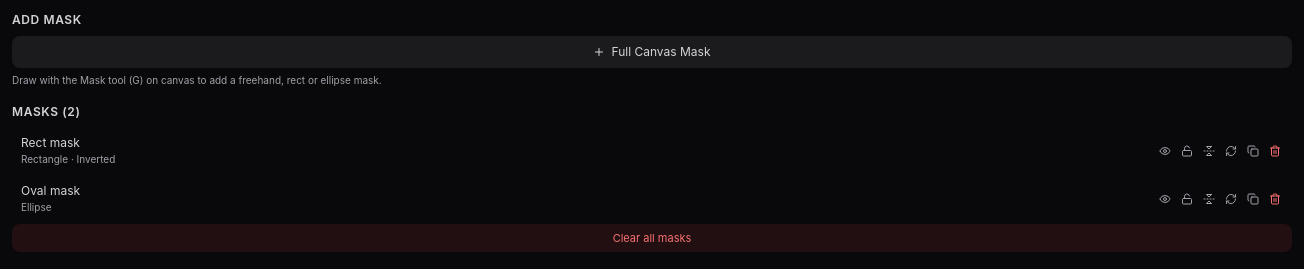
Test case: MasksPanel › lists every mask additively with per-mask Delete/Reverse/Duplicate
The width and height of the screenshot is (1304, 269).
Check: the text "Rect mask" is shown, box [21, 135, 80, 150]
Check: the text "Oval mask" is shown, box [21, 183, 80, 198]
Click the button titled "Delete" in the row of "Oval mask" at x=1275, y=199, box [1267, 191, 1283, 207]
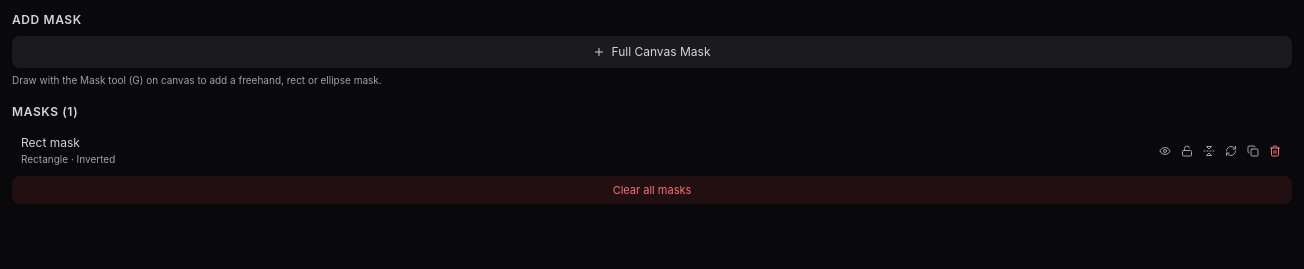
Click the button titled "Switch to reveal" at x=1209, y=151, box [1201, 143, 1217, 159]
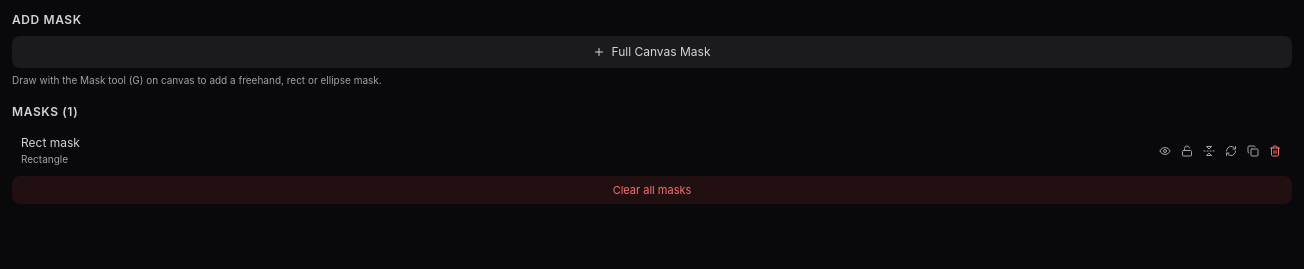
Click the button titled "Duplicate" at x=1253, y=151, box [1245, 143, 1261, 159]
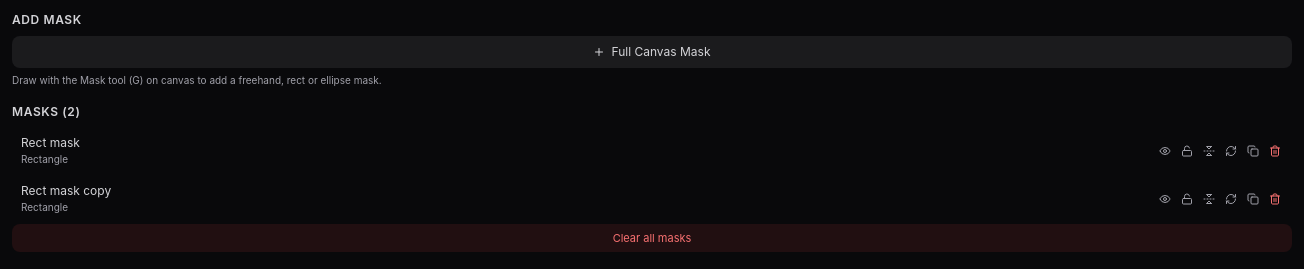
Check: the text "Rect mask copy" is shown, box [21, 183, 111, 198]
